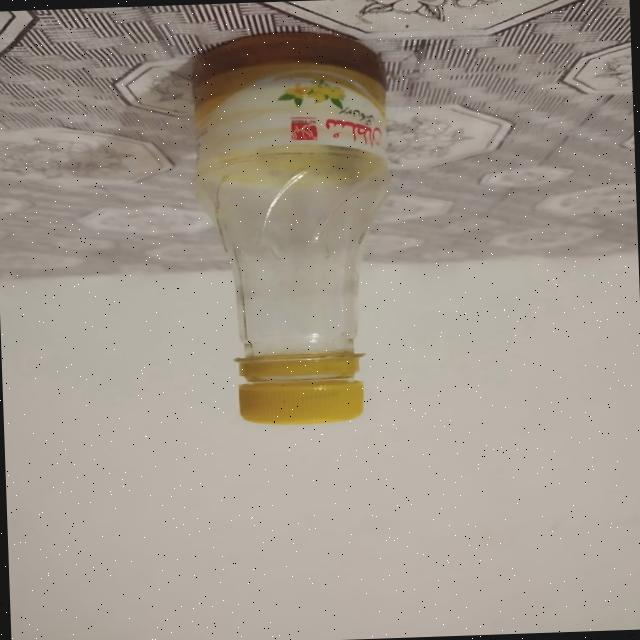bottle: (161, 22, 422, 447)
cap: (236, 346, 382, 434)
label: (184, 58, 390, 180)
